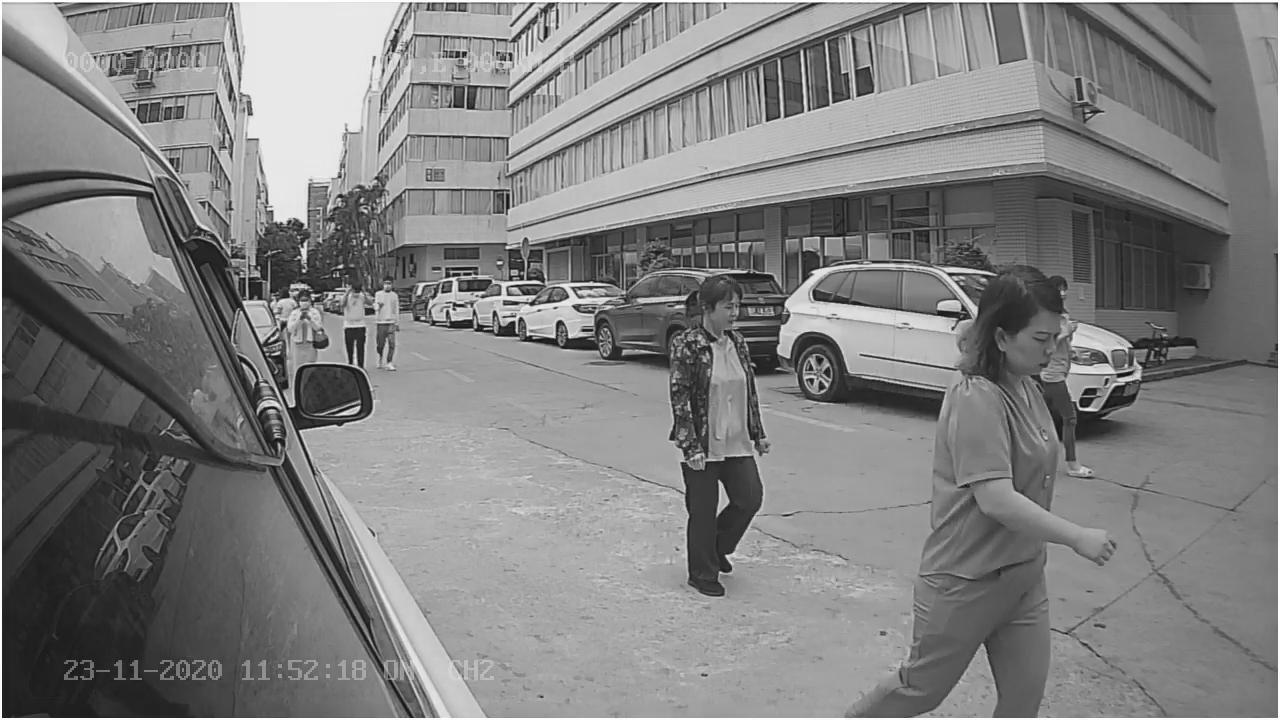person: (917, 267, 1078, 700), (666, 268, 762, 600)
